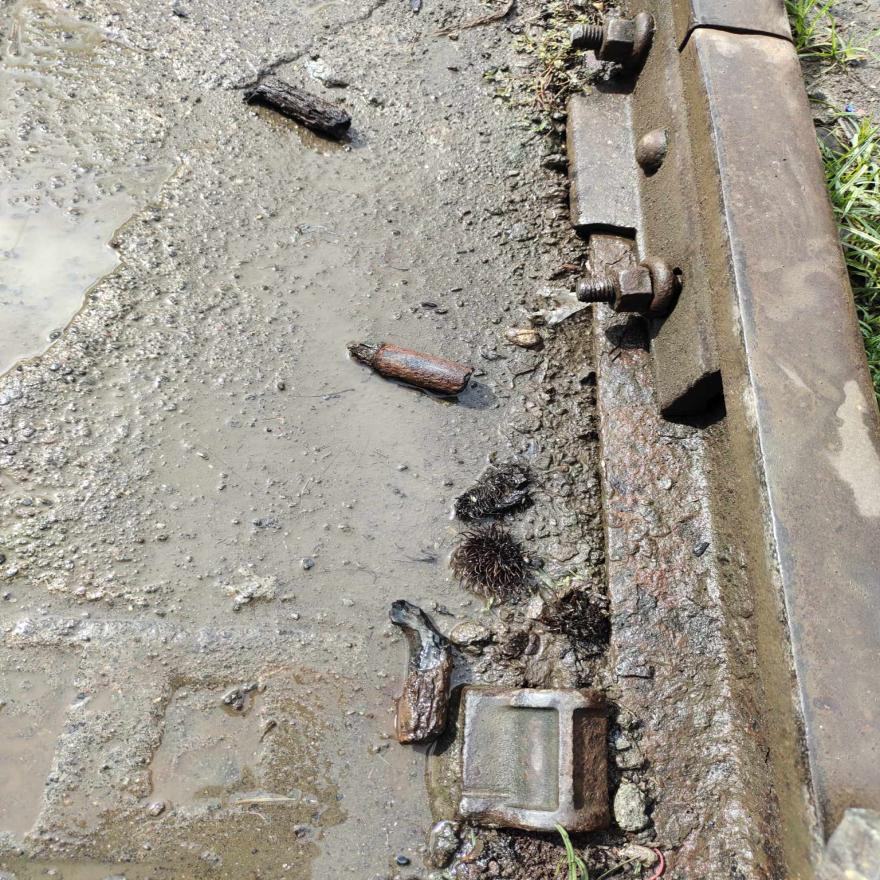railway-gap: (621, 0, 842, 79)
